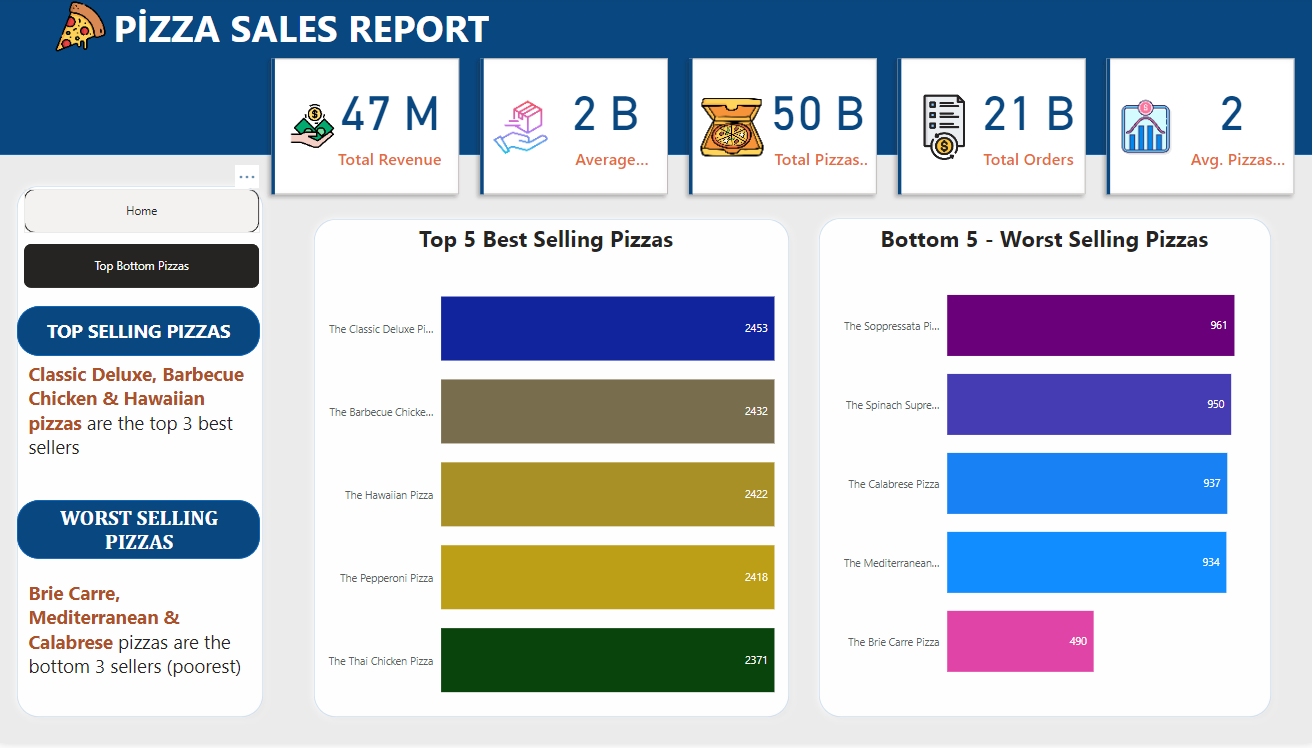

Layout of this report page (visuals, bound fields, positions):
{"tool":"powerbi","page":{"name":"Top Bottom Pizzas","canvas":[1500,850],"ordinal":1},"visuals":[{"type":"shape","box":[0,0,1500,180.1],"z":0},{"type":"cardVisual","fields":{"Data":["Sum(1-kpi-total-revenue.Column1)","Sum(2-kpi-avg order value.Column1)","Sum(3-kpi total pizzas sold.Column1)","Sum(4-kpi total orders.Column1)","Sum(5-kpi average pizzas per older.Column1)"]},"box":[298.6,57,1196.8,181.2],"z":1000},{"type":"shape","box":[351.1,243.9,559.7,585.9],"z":2000},{"type":"shape","box":[926.7,242.8,533.4,587],"z":3000},{"type":"textbox","box":[67.2,0,557.4,76.4],"z":4000},{"type":"image","box":[54.7,0,78.6,67.2],"z":5000},{"type":"shape","box":[12.5,206.3,298.6,623.5],"z":6000},{"type":"shape","box":[21.7,352.2,277,57],"z":7000},{"type":"textbox","box":[21.7,360.2,277,49],"z":8000},{"type":"textbox","box":[29.6,409.2,269,185.8],"z":9000},{"type":"shape","box":[21.7,573.3,277,67.2],"z":10000},{"type":"textbox","box":[54.7,573.3,212,67.2],"z":11000},{"type":"textbox","box":[29.6,658.8,261,153.9],"z":12000},{"type":"hundredPercentStackedBarChart","title":"Top 5 Best Selling Pizzas","fields":{"Category":["question 6 - top 5.Column1"],"Y":["Sum(question 6 - top 5.Column2)"]},"box":[359,257.6,531.2,580.2],"z":13000},{"type":"clusteredBarChart","title":"Bottom 5 - Worst Selling Pizzas","fields":{"Category":["question 7 - bottom 5.Column1"],"Y":["Sum(question 7 - bottom 5.Column2)"]},"box":[944.9,257.6,495.8,555.1],"z":14000},{"type":"pageNavigator","box":[29.6,218.8,269,50.2],"z":14001},{"type":"pageNavigator","box":[29.6,281.5,269,50.2],"z":14002}]}

Visuals, with their boxes on the page's 1500x850 design canvas (x1, y1, x2, y2). These are canvas units, not pixel positions in the 1312x748 screenshot, which may show the page scaled, cropped or inside an application window:
shape: Rect(0, 0, 1500, 180)
cardVisual - Sum(1-kpi-total-revenue.Column1) x Sum(2-kpi-avg order value.Column1): Rect(299, 57, 1495, 238)
shape: Rect(351, 244, 911, 830)
shape: Rect(927, 243, 1460, 830)
textbox: Rect(67, 0, 625, 76)
image: Rect(55, 0, 133, 67)
shape: Rect(12, 206, 311, 830)
shape: Rect(22, 352, 299, 409)
textbox: Rect(22, 360, 299, 409)
textbox: Rect(30, 409, 299, 595)
shape: Rect(22, 573, 299, 640)
textbox: Rect(55, 573, 267, 640)
textbox: Rect(30, 659, 291, 813)
"Top 5 Best Selling Pizzas" hundredPercentStackedBarChart: Rect(359, 258, 890, 838)
"Bottom 5 - Worst Selling Pizzas" clusteredBarChart: Rect(945, 258, 1441, 813)
pageNavigator: Rect(30, 219, 299, 269)
pageNavigator: Rect(30, 282, 299, 332)
